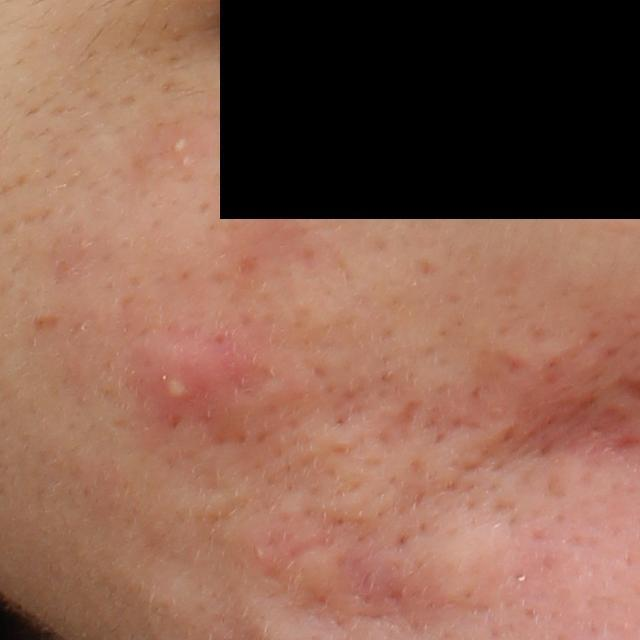atrophic_scar: (374, 397, 421, 443), (26, 311, 61, 334)
hypertrophic_scar: (293, 415, 479, 531), (390, 508, 525, 617), (283, 547, 370, 617)
pustule: (122, 328, 248, 428), (160, 129, 195, 157)
